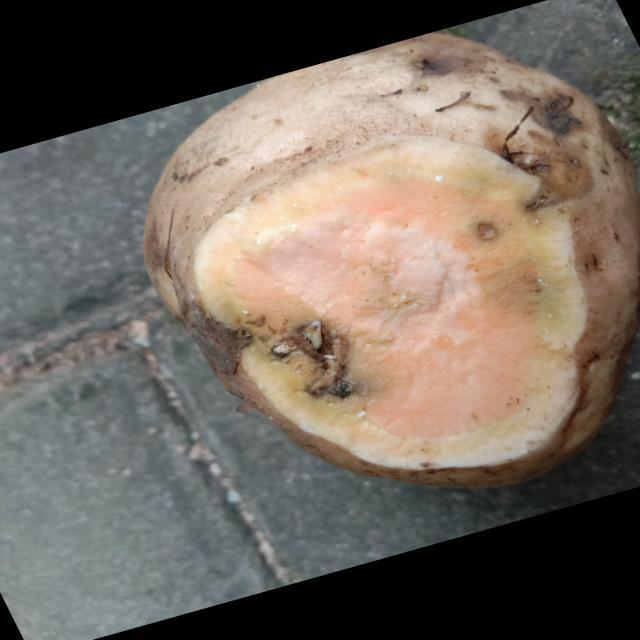Sick Sweet Potato_Tuber Rot: (193, 136, 587, 486)
